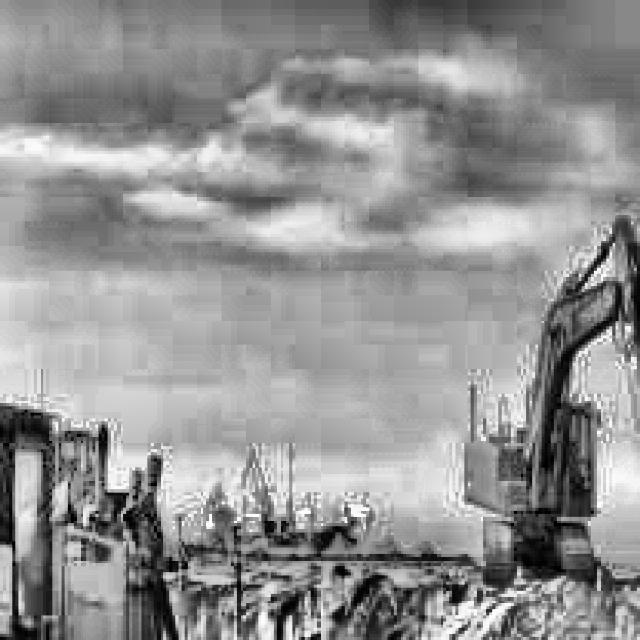buldozerpayloadergrader: (0, 384, 283, 640)
excavator: (458, 203, 640, 594)
